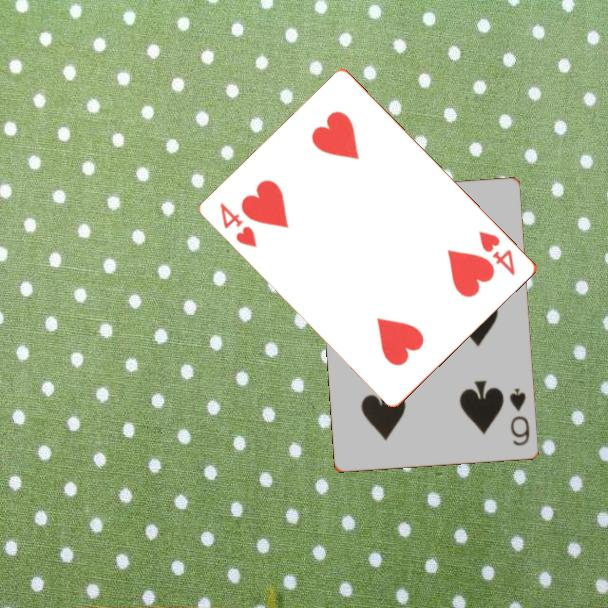h04: (217, 199, 261, 251), (475, 227, 518, 279)
s06: (506, 385, 533, 449)
